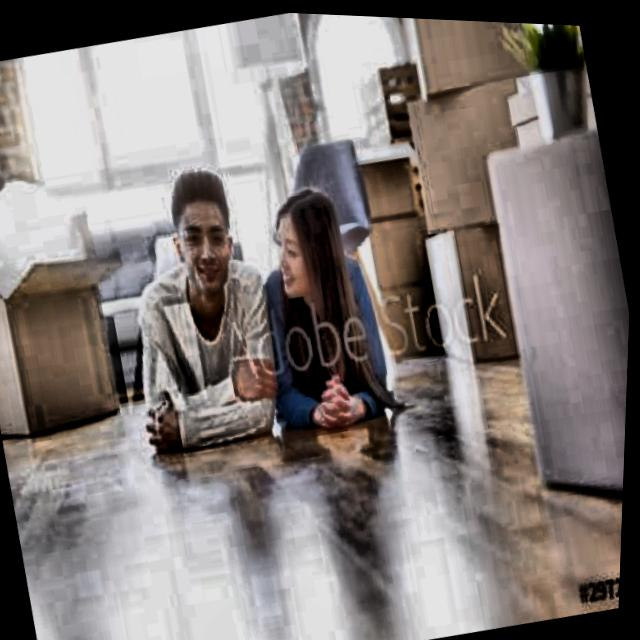Cardbox: (0, 195, 139, 457), (383, 62, 547, 251), (331, 128, 454, 370), (411, 199, 527, 378), (377, 13, 552, 102)
